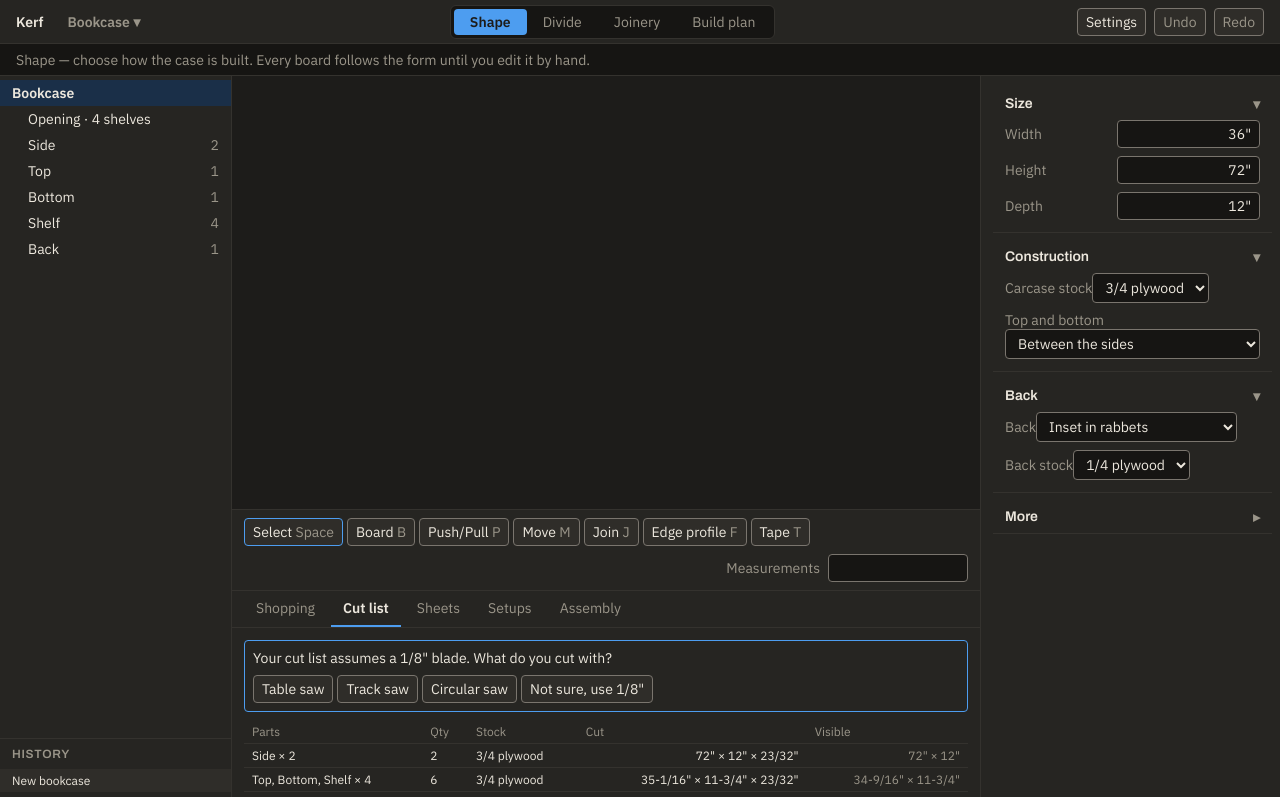
it: <TopBar> Kerf button and project menu › refuses a blank name, says why, and keeps the field open
Click the button "Bookcase ▾" at coordinates (104, 22), box x1=60 y1=8 x2=148 y2=34
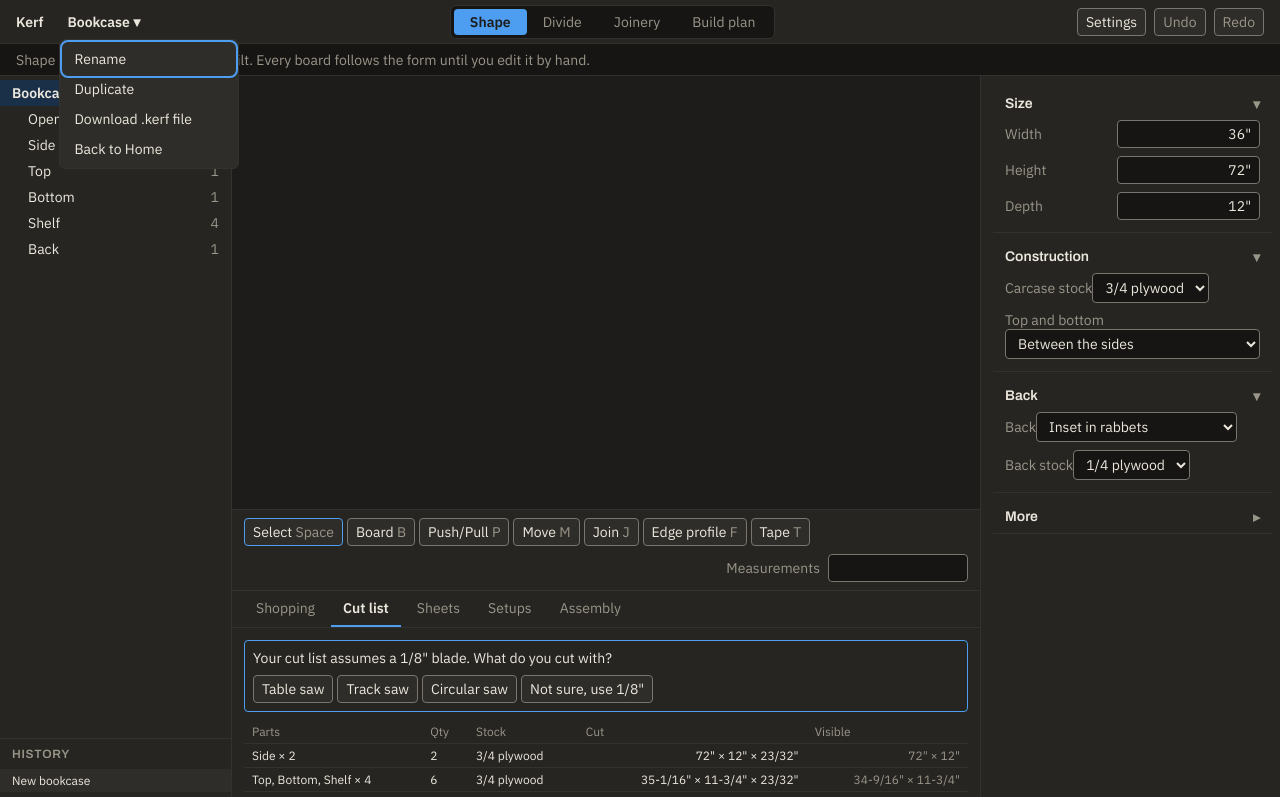
Click the menu item "Rename" at coordinates (150, 58), box x1=64 y1=44 x2=234 y2=74
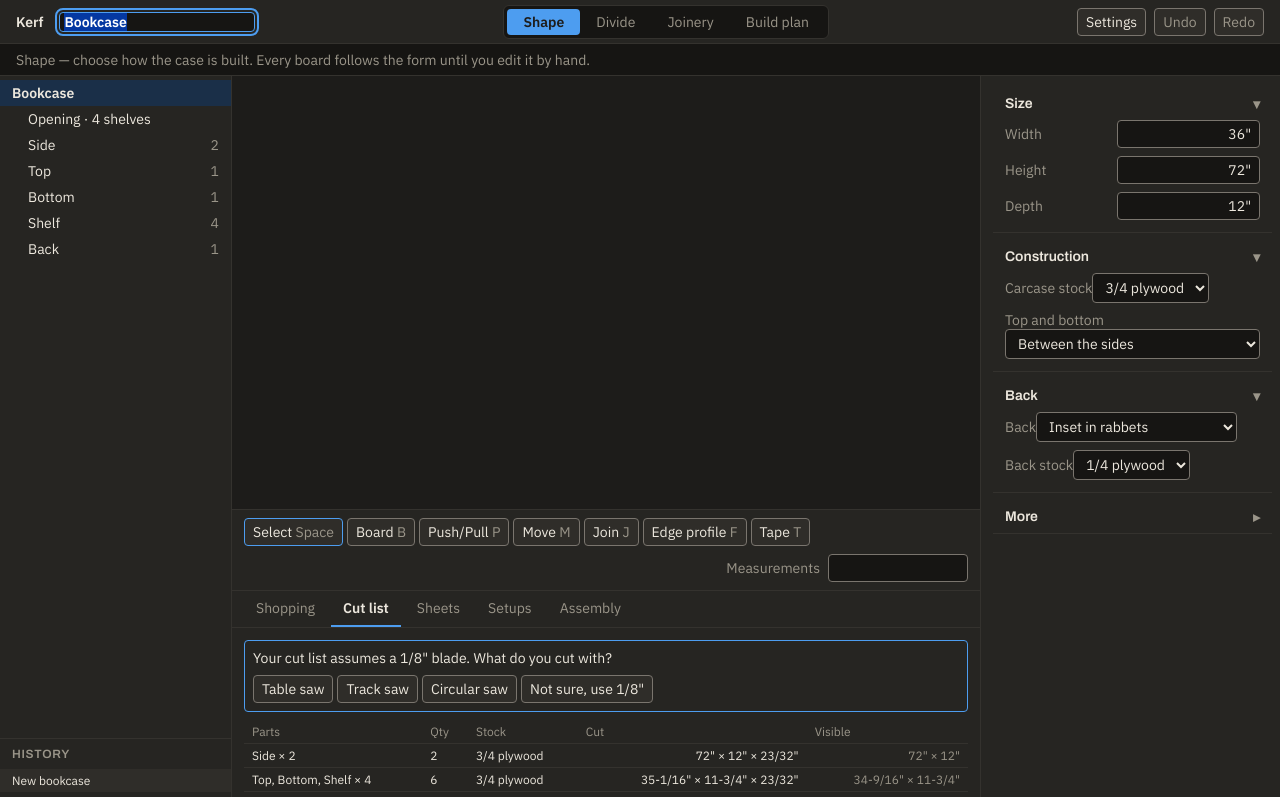
Clear the field named "Name" at coordinates (158, 22), box x1=60 y1=12 x2=256 y2=32
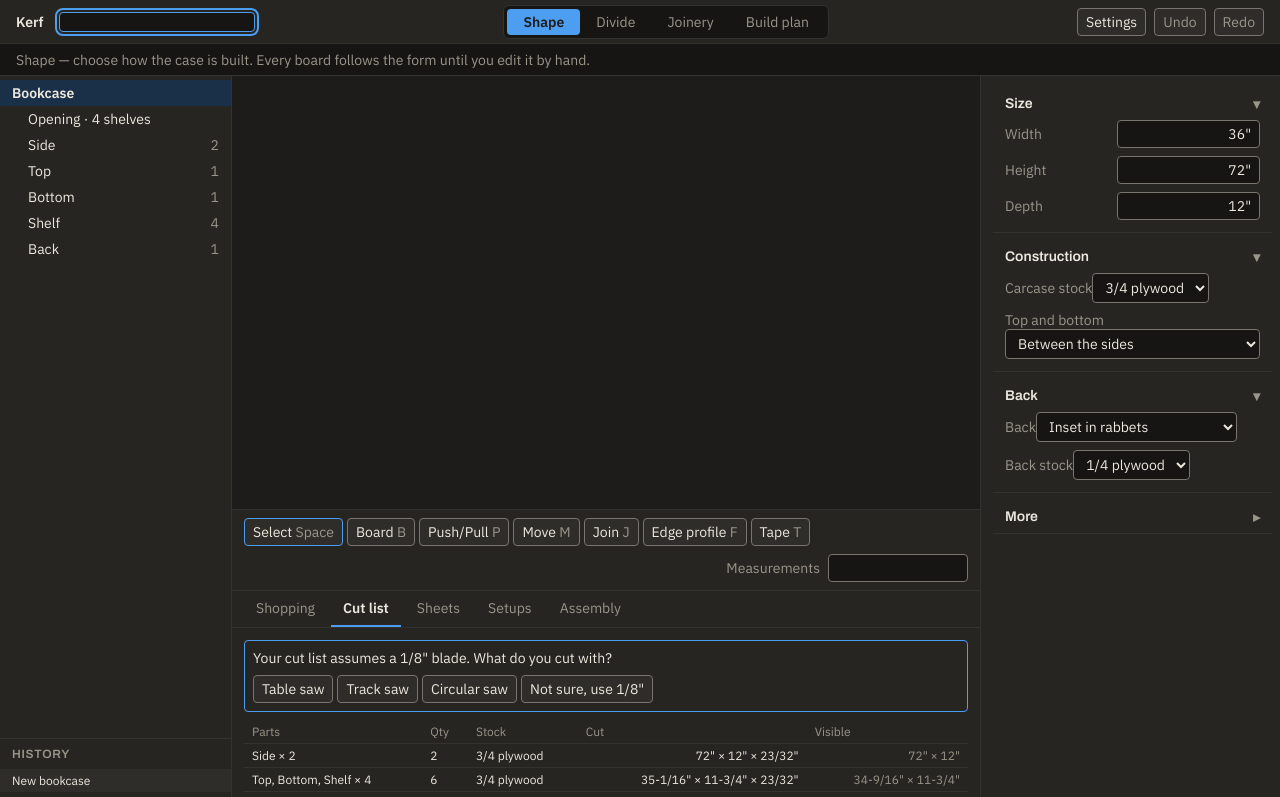
Press Enter
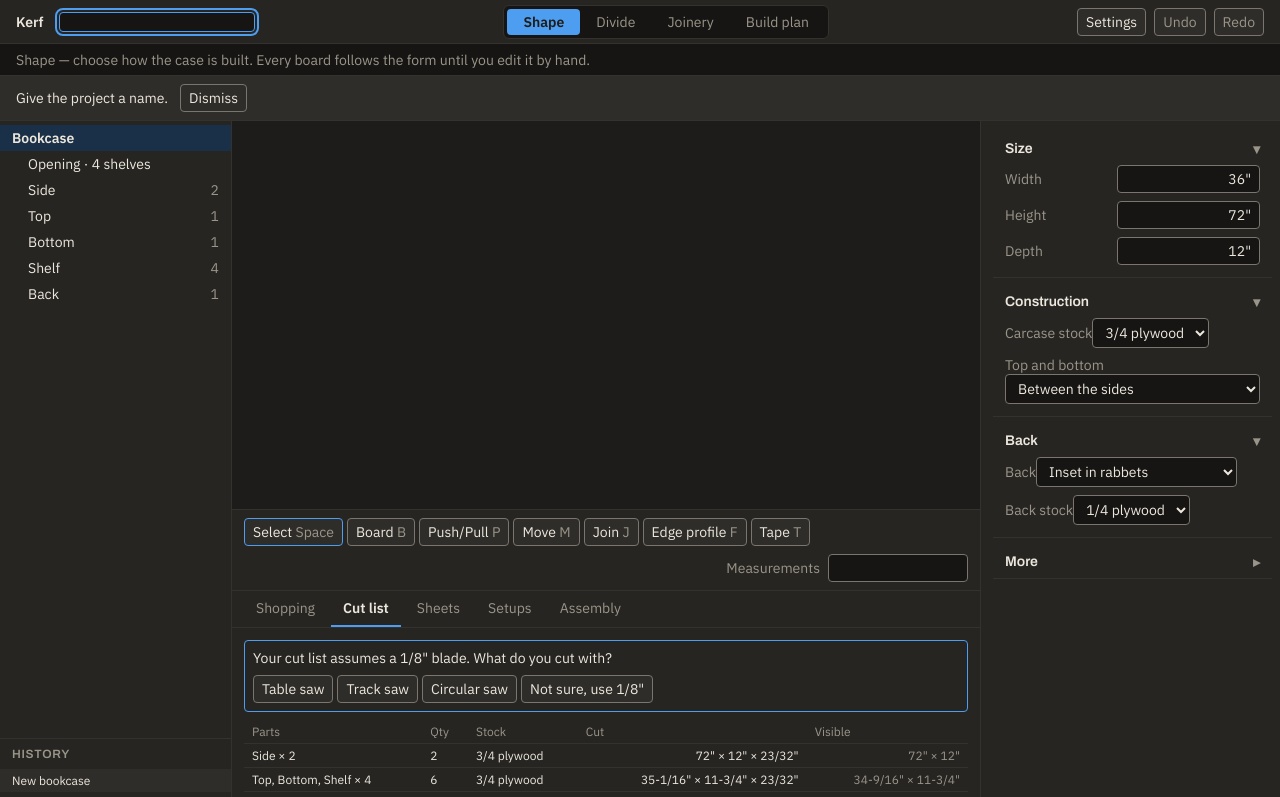
Now the text "Give the project a name." is shown, box x1=16 y1=89 x2=168 y2=107
